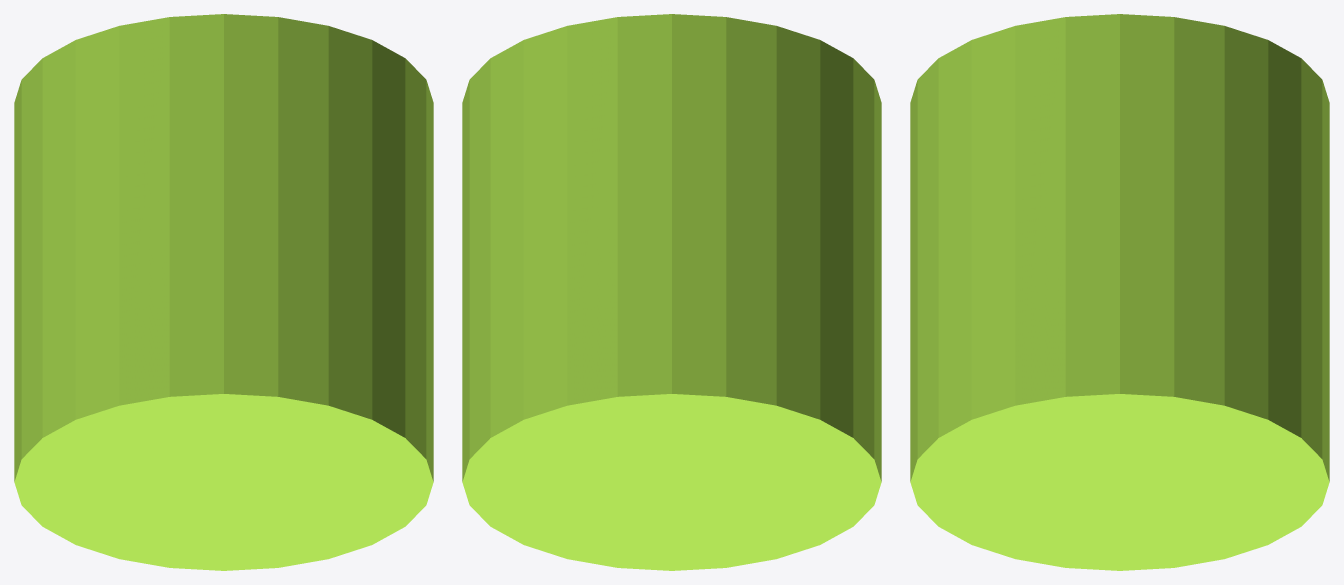
The picture shows the model from 3 angles, left to right: view 1: azimuth 30°, elevation 25°; view 2: azimuth 150°, elevation 25°; view 3: azimuth 270°, elevation 25°; orthographic projection.
Parts seen in each view (by area): view 1: cylinder; view 2: cylinder; view 3: cylinder.
Boxes of the visible parts, bbox=[...] form: cylinder: bbox=[14, 14, 433, 570]; cylinder: bbox=[462, 14, 881, 570]; cylinder: bbox=[910, 14, 1329, 570].
Size of the model in its own units: 2 by 2 by 2.
